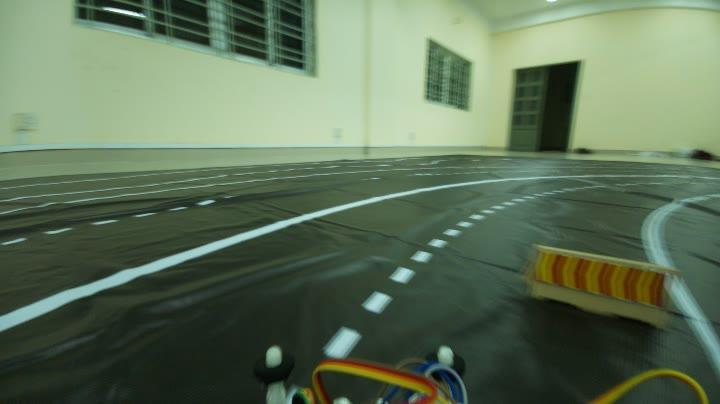roadblock: (525, 235, 675, 328)
